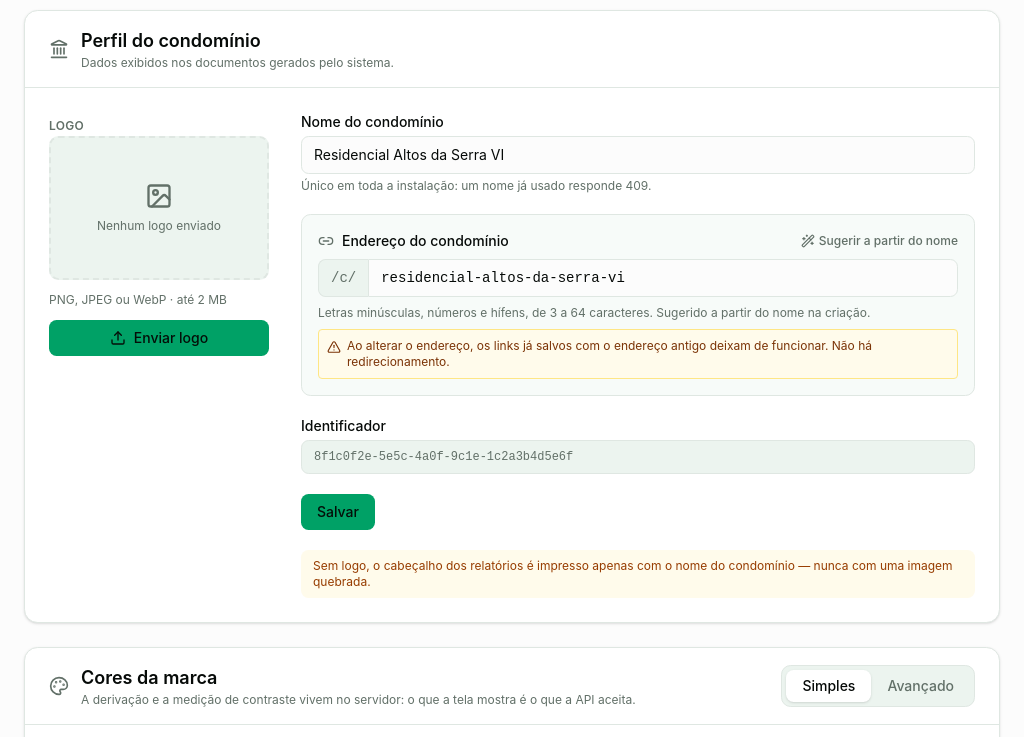
Test: the live contrast panel › keeps the save enabled and names the failing pair while a pair is below 4.5:1
Click the button "Avançado".
click(921, 686)  # box [871,670,970,702]
(page scrolled)
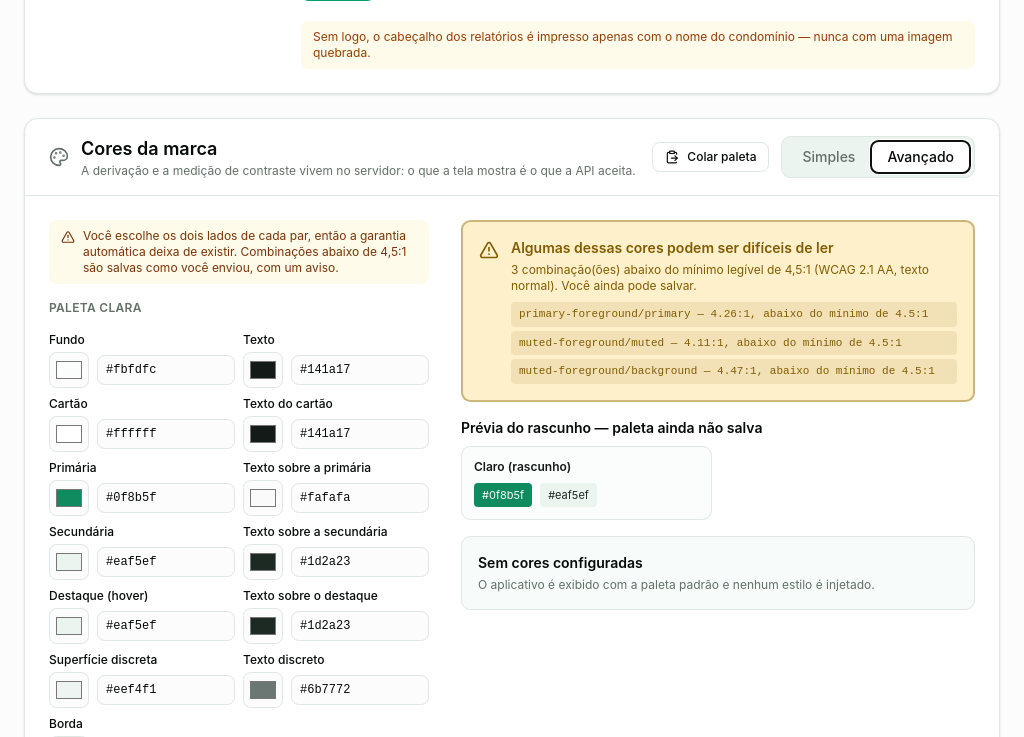
Replace the text in the field labelled "Fundo" with "#121212" at (166, 370), box [97,355,235,385]
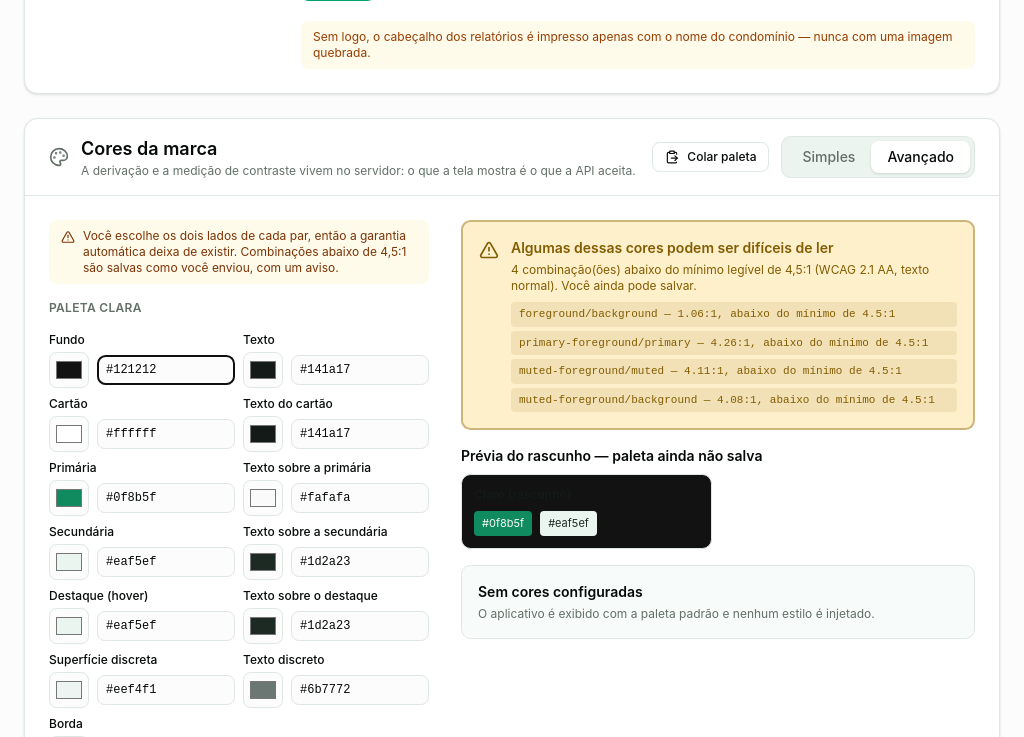
Replace the text in the field labelled "Texto" with "#1a1a1a" at (360, 370), box [291,355,429,385]
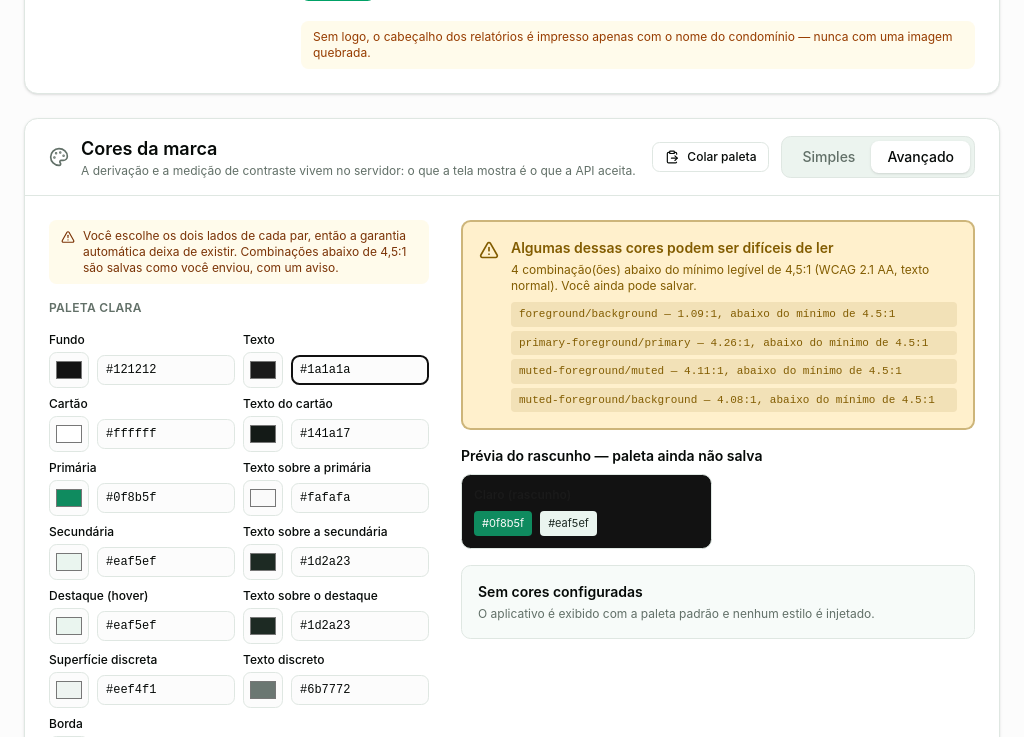
Expected: the text "Algumas dessas cores podem ser difíceis de ler" is shown, [511,239,834,256]
Expected: the element with test id "brand-contrast-warning" is shown, [461,220,975,430]
Expected: the list item "foreground/background — 1.09:1, abaixo do mínimo de 4.5:1" is shown, [511,302,957,326]
